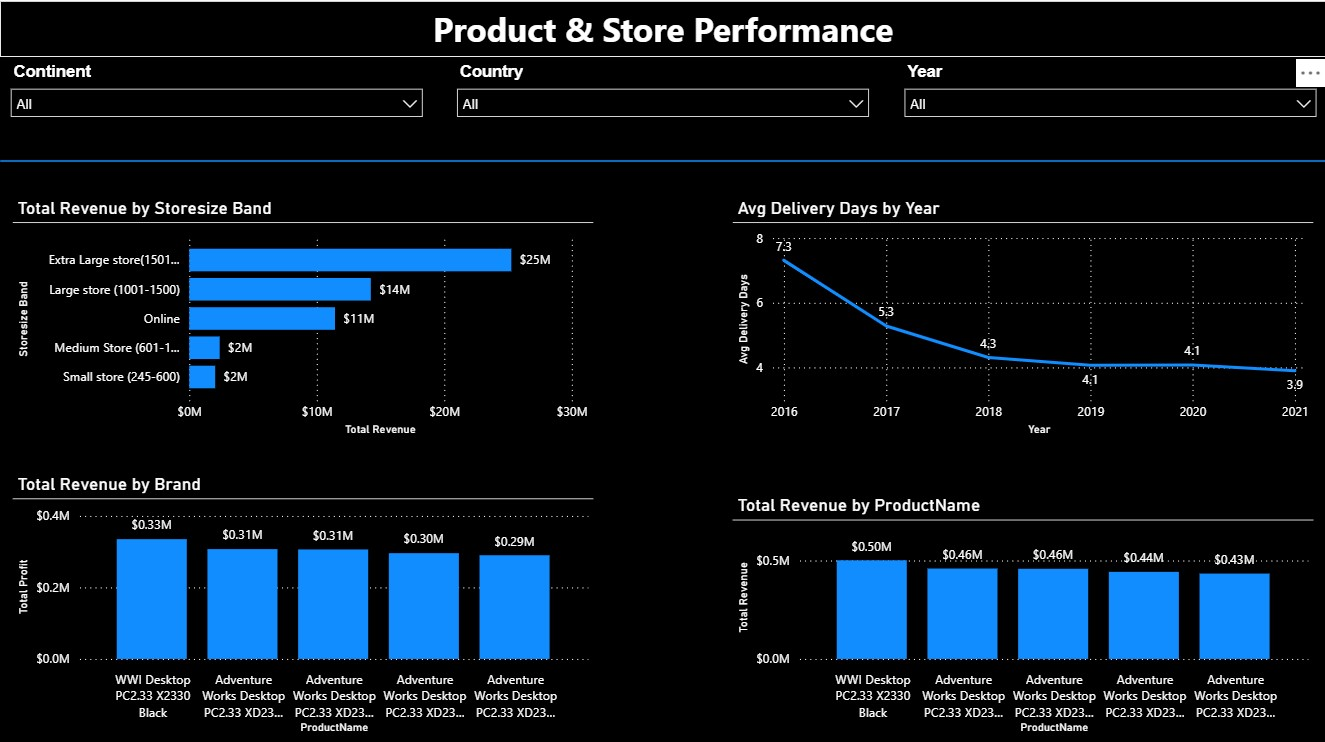

Layout of this report page (visuals, bound fields, positions):
{"tool":"powerbi","page":{"name":"Product & Store Performance","canvas":[1280,720],"ordinal":2},"visuals":[{"type":"barChart","fields":{"Y":["sales_clean.Total Revenue"],"Category":["stores_clean.Storesize Band"]},"box":[12.1,189.4,561,234],"z":4000},{"type":"clusteredColumnChart","fields":{"Y":["sales_clean.Total Revenue"],"Category":["products_clean.ProductName"]},"box":[707,476.5,561,234],"z":5000},{"type":"columnChart","title":"Total Revenue by Brand","fields":{"Category":["products_clean.ProductName"],"Y":["sales_clean.Total Profit"]},"box":[12.1,456,561,254.6],"z":6000},{"type":"slicer","fields":{"Values":["sales_clean.OrderDate.Variation.Date Hierarchy.Year"]},"box":[862.1,53.8,418.2,62.4],"z":8000},{"type":"slicer","fields":{"Values":["customers_clean (2).Country"]},"box":[430.4,53.8,418.2,62.4],"z":9000},{"type":"slicer","fields":{"Values":["customers_clean (2).Continent"]},"box":[0,53.8,418,62.4],"z":10000},{"type":"textbox","box":[0,0,1280,54.3],"z":14000},{"type":"shape","box":[0,149.6,1280,9.7],"z":15000},{"type":"lineChart","fields":{"Category":["sales_clean.DeliveryDate.Variation.Date Hierarchy.Year"],"Y":["sales_clean.Avg Delivery Days"]},"box":[707,189.4,561,234],"z":17001}]}

Visuals, with their boxes in screenshot pixels (x1, y1, x2, y2), scaled from the page's 1280x720 canvas onto the 1325x742 screenshot:
barChart - sales_clean.Total Revenue x stores_clean.Storesize Band: crop(13, 195, 593, 436)
clusteredColumnChart - sales_clean.Total Revenue x products_clean.ProductName: crop(732, 491, 1313, 732)
"Total Revenue by Brand" columnChart: crop(13, 470, 593, 732)
slicer - sales_clean.OrderDate.Variation.Date Hierarchy.Year: crop(892, 55, 1324, 120)
slicer - customers_clean (2).Country: crop(446, 55, 878, 120)
slicer - customers_clean (2).Continent: crop(0, 55, 433, 120)
textbox: crop(0, 0, 1324, 56)
shape: crop(0, 154, 1324, 164)
lineChart - sales_clean.DeliveryDate.Variation.Date Hierarchy.Year x sales_clean.Avg Delivery Days: crop(732, 195, 1313, 436)
